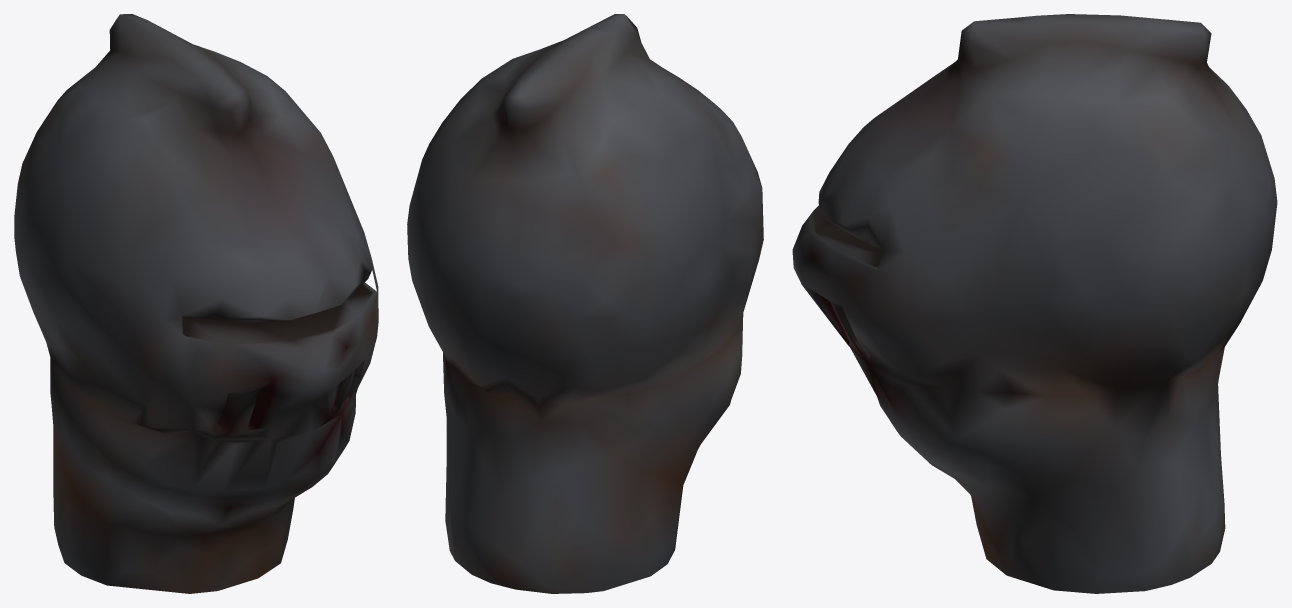
Rendered from armour_helm.glb.
The picture shows the model from 3 angles, left to right: view 1: azimuth 30°, elevation 25°; view 2: azimuth 150°, elevation 25°; view 3: azimuth 270°, elevation 25°; orthographic projection. The views are drawn at different scales.
Parts seen in each view (by area): view 1: armour_helm; view 2: armour_helm; view 3: armour_helm.
Part boxes in pixels (<box>): armour_helm: <box>14,14,378,593</box>; armour_helm: <box>407,14,763,593</box>; armour_helm: <box>792,14,1277,593</box>.
Bounding box in the file's own units: 0.2295 × 0.3969 × 0.3305.
